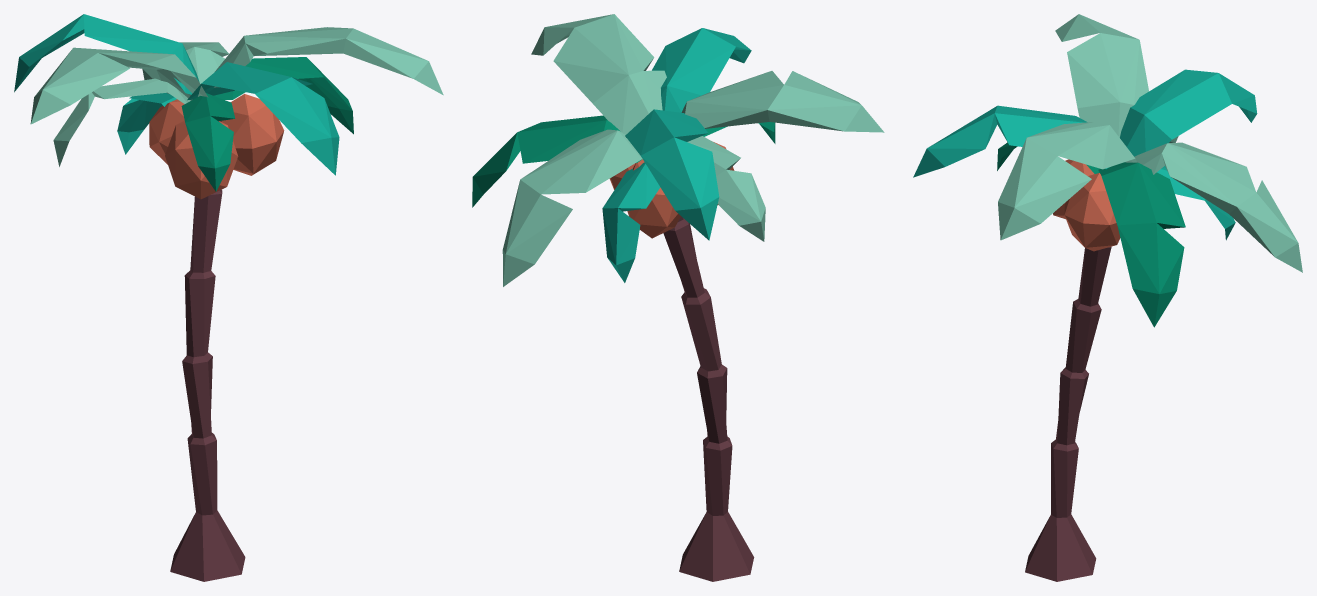
File: palmTreeB.FBX
The picture shows the model from 3 angles, left to right: view 1: azimuth 30°, elevation 25°; view 2: azimuth 150°, elevation 25°; view 3: azimuth 270°, elevation 25°; orthographic projection. The views are drawn at different scales.
Parts seen in each view (by area): view 1: palmTreeB; view 2: palmTreeB; view 3: palmTreeB.
Boxes of the visible parts, box(x1,y1,x2,y2) form: palmTreeB: box(14, 14, 443, 581); palmTreeB: box(472, 14, 884, 581); palmTreeB: box(913, 14, 1302, 581).
Bounding box in the file's own units: 0.9362 × 1.23 × 0.8835.
